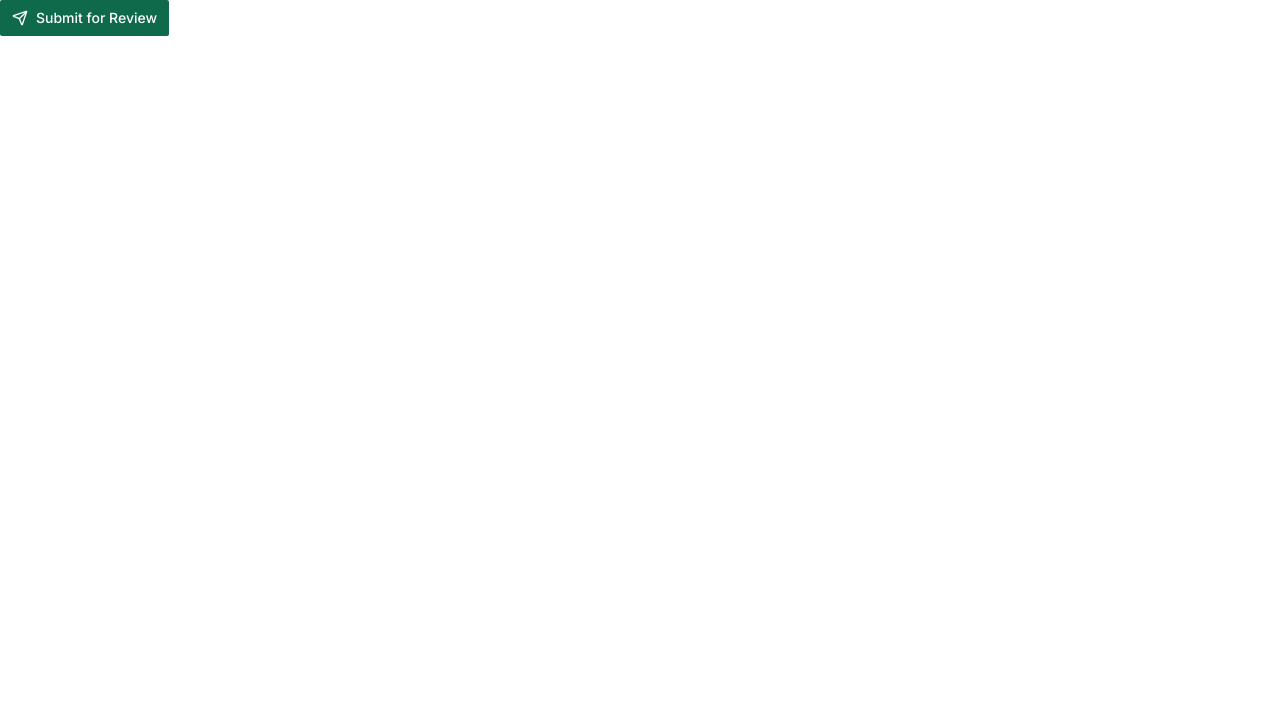
Test: Submit for Review › Cancel closes the dialog without submitting
The image size is (1280, 720).
Click the button "Submit for Review": click(85, 18) [0,0,169,36]
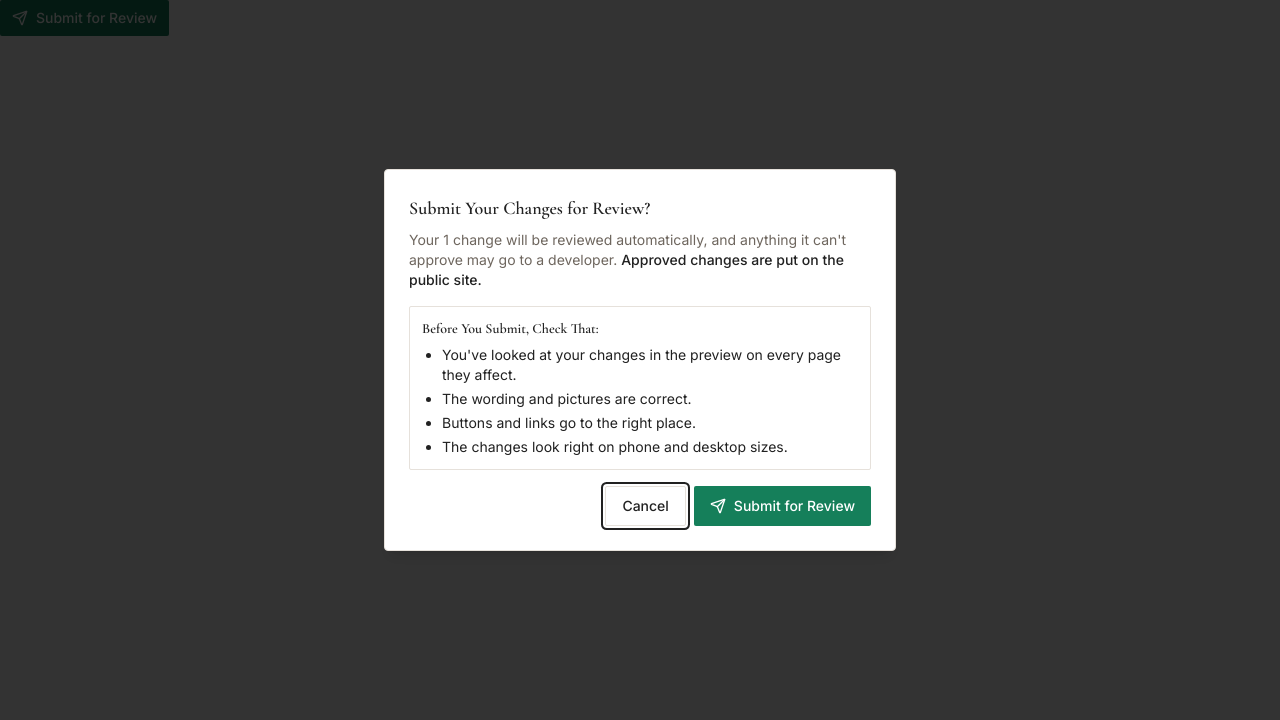
Click the button "Cancel": click(646, 506) [605,486,686,526]
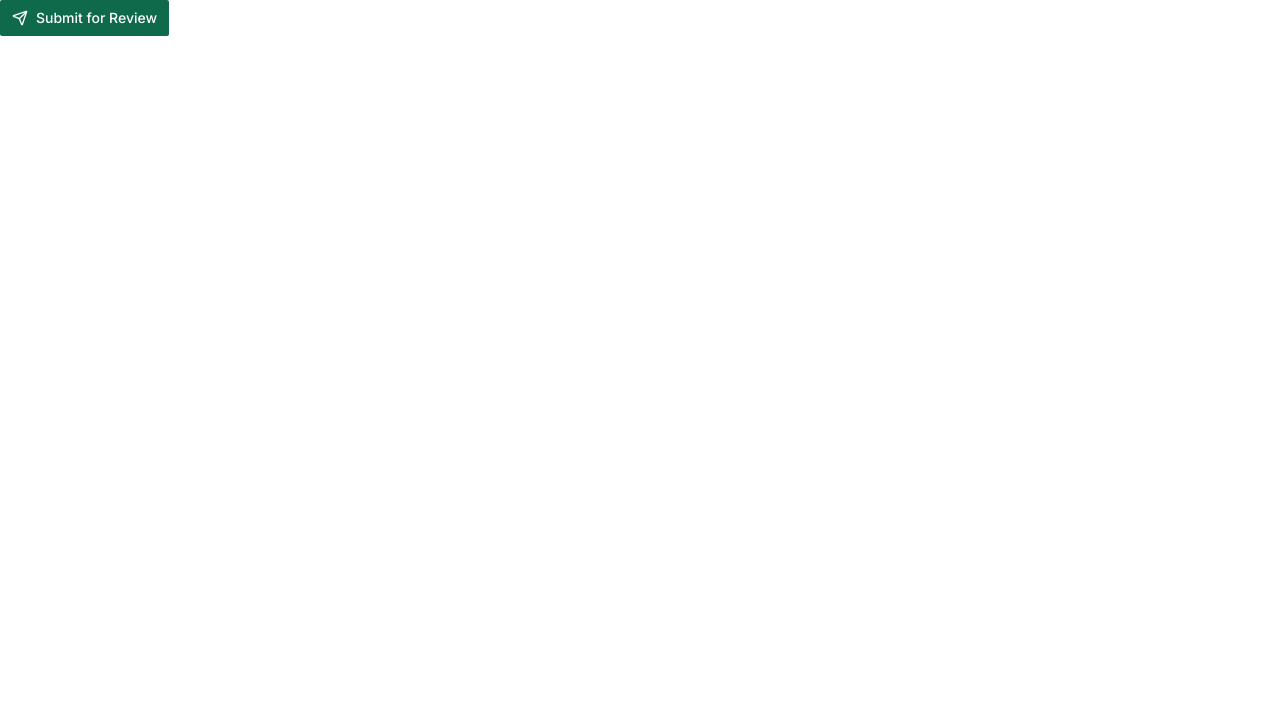
expect the dialog is gone: met
